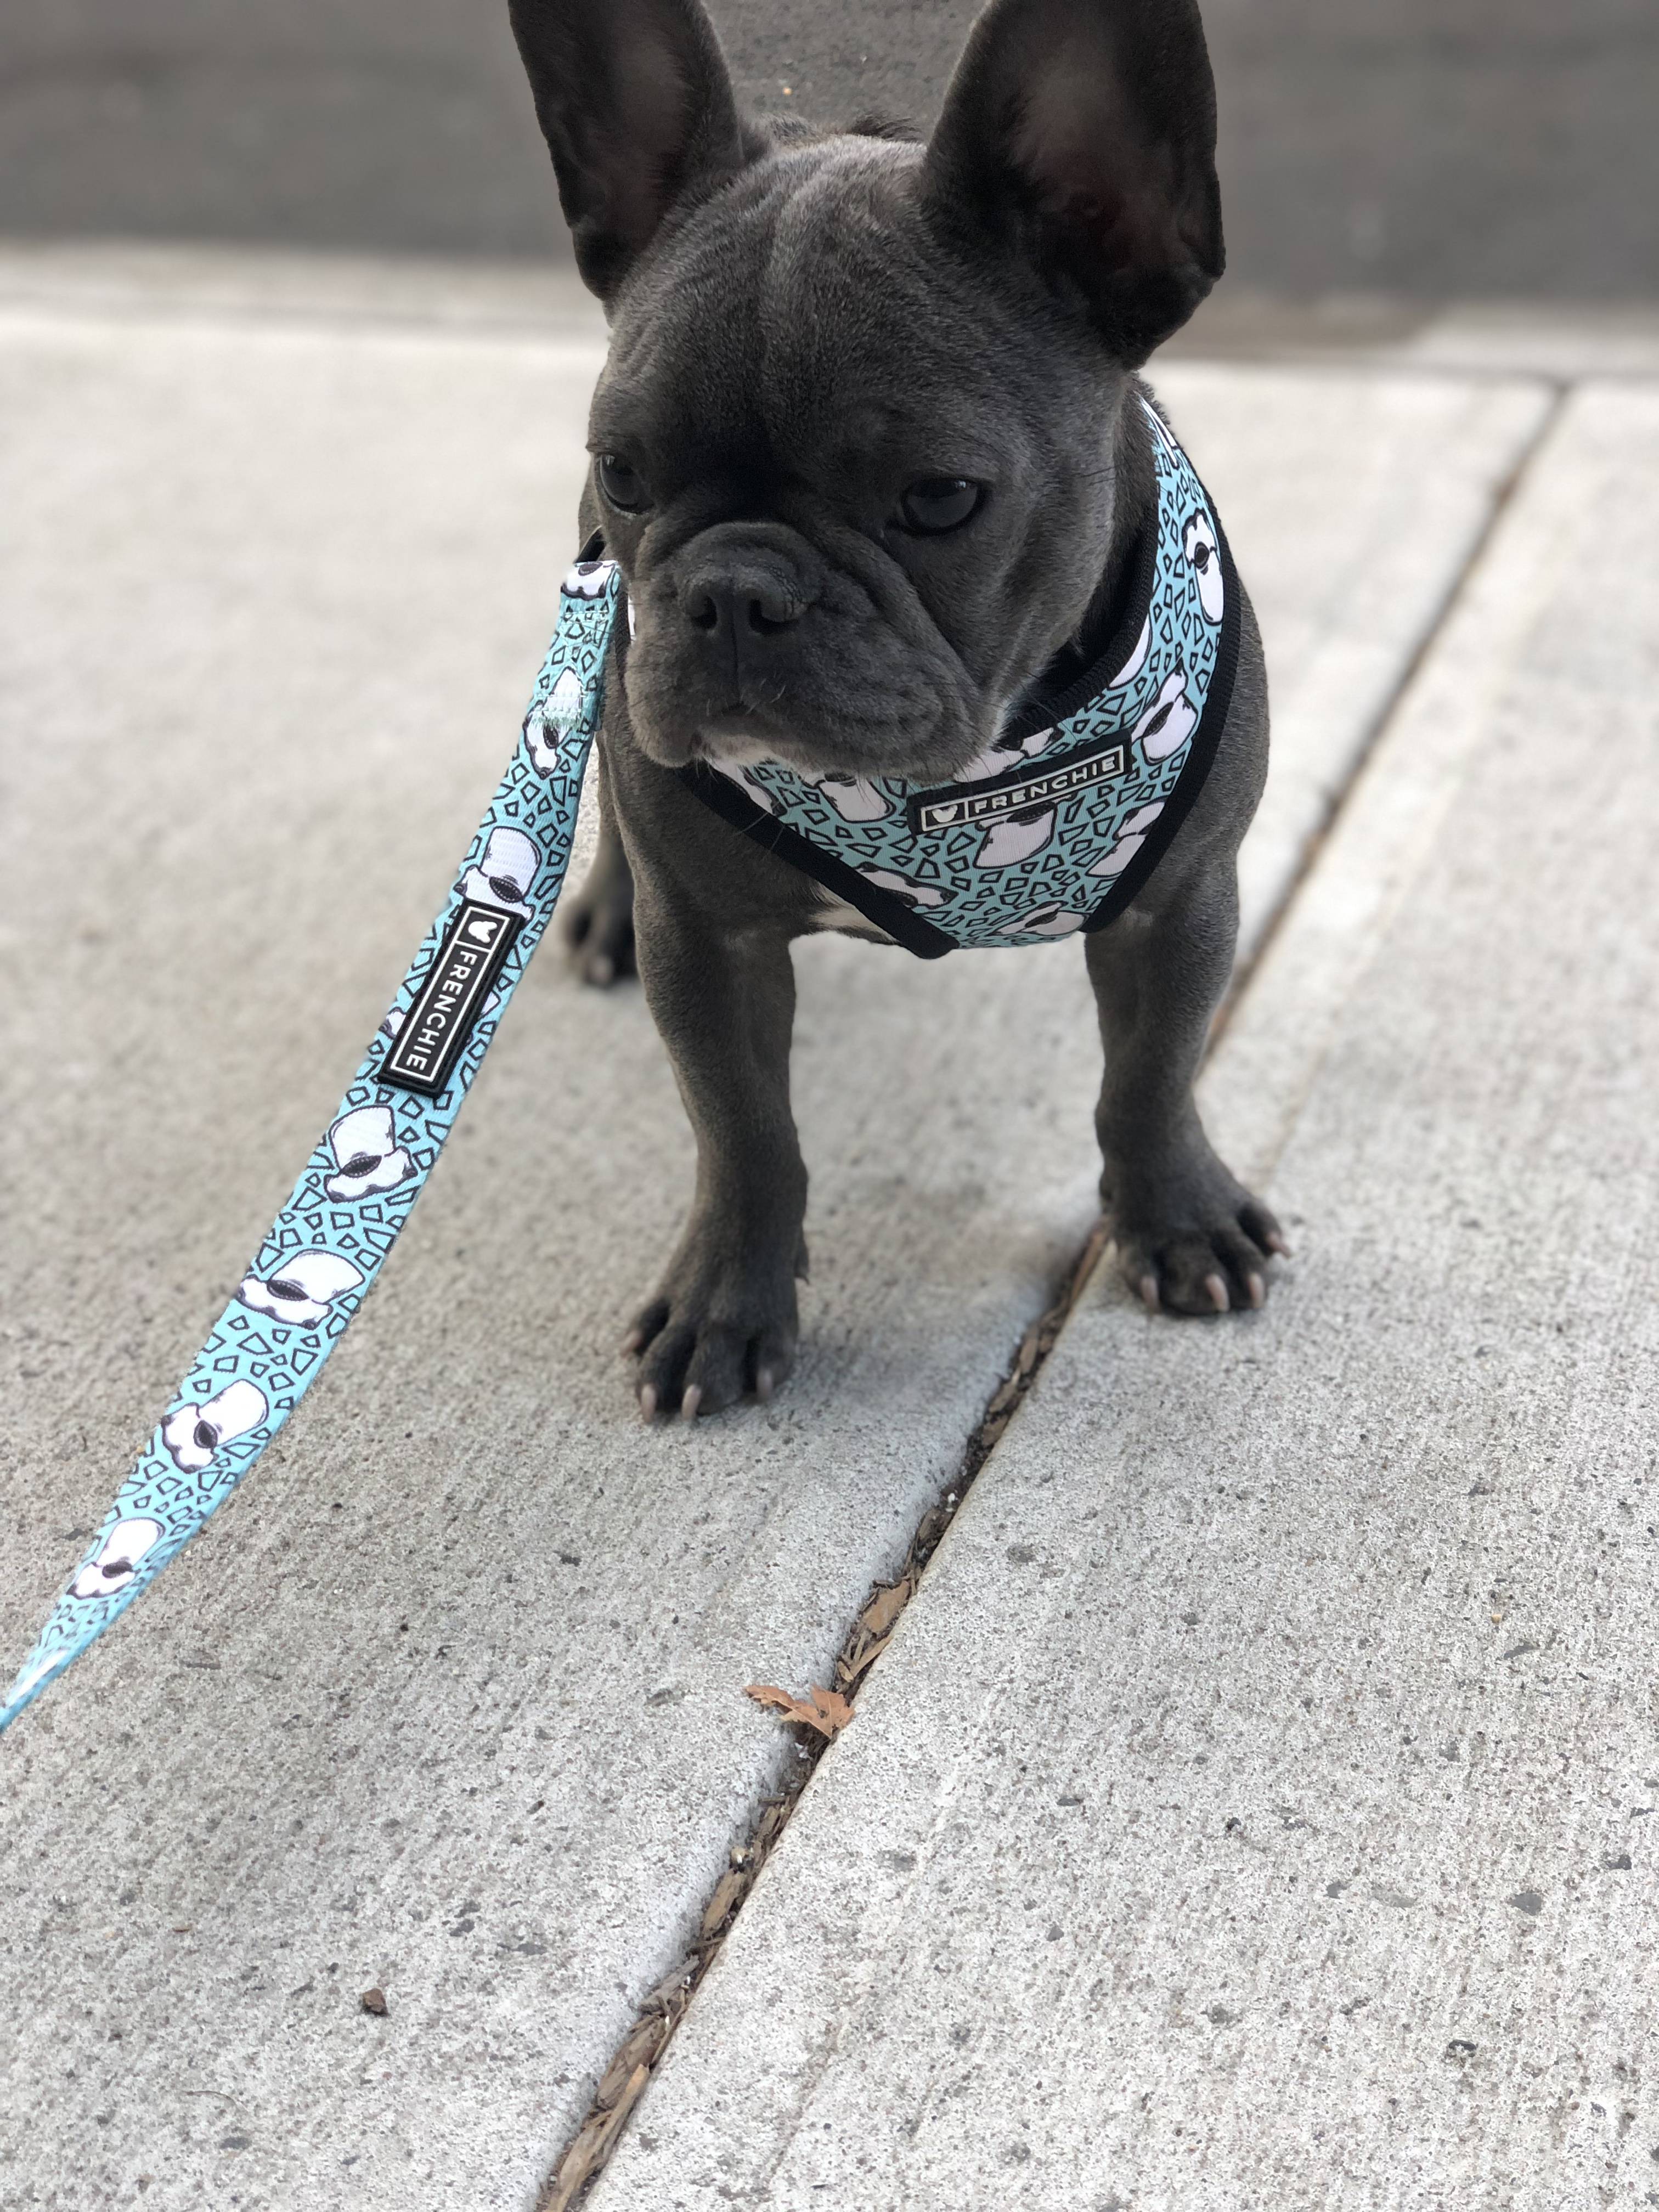lucy: (486, 5, 1310, 1423)
